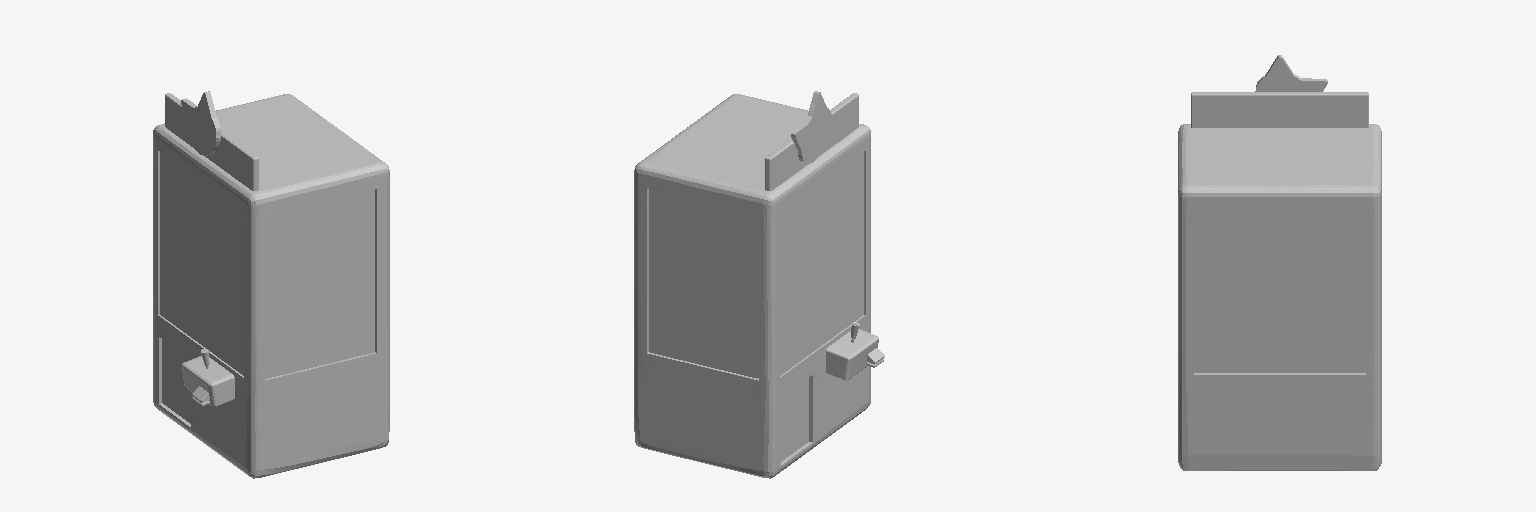
3 views of the same model, side by side, from view 1: azimuth 30°, elevation 25°; view 2: azimuth 150°, elevation 25°; view 3: azimuth 270°, elevation 25° (orthographic).
Parts seen in each view (by area): view 1: polySurface1 Claw_Machine, Claw_Machine pCube15, Claw_Machine pCube3, Claw_Machine pCube7, Claw_Machine group4 Full_Claw MyHead3, Claw_Machine pCube1, Claw_Machine pCube6; view 2: polySurface1 Claw_Machine, Claw_Machine pCube14, Claw_Machine pCube3, Claw_Machine pCube7, Claw_Machine pCube6, Claw_Machine pCube1, Claw_Machine group4 Full_Claw MyHead3; view 3: polySurface1 Claw_Machine, Claw_Machine pCube2, Claw_Machine pCube7, Claw_Machine group4 Full_Claw MyHead3.
Boxes of the visible parts, x1,y1,x2,y2 form: polySurface1 Claw_Machine: [153, 94, 389, 478]; Claw_Machine pCube15: [265, 189, 374, 378]; Claw_Machine pCube3: [160, 152, 243, 375]; Claw_Machine pCube7: [165, 93, 258, 190]; Claw_Machine group4 Full_Claw MyHead3: [181, 91, 220, 155]; Claw_Machine pCube1: [182, 356, 234, 406]; Claw_Machine pCube6: [162, 339, 190, 423]; polySurface1 Claw_Machine: [634, 94, 870, 478]; Claw_Machine pCube14: [649, 189, 758, 377]; Claw_Machine pCube3: [780, 152, 863, 375]; Claw_Machine pCube7: [765, 93, 858, 190]; Claw_Machine pCube6: [781, 378, 808, 461]; Claw_Machine pCube1: [826, 329, 878, 379]; Claw_Machine group4 Full_Claw MyHead3: [791, 91, 831, 163]; polySurface1 Claw_Machine: [1178, 124, 1381, 470]; Claw_Machine pCube2: [1194, 210, 1365, 372]; Claw_Machine pCube7: [1191, 92, 1368, 127]; Claw_Machine group4 Full_Claw MyHead3: [1255, 55, 1327, 91].
Bounding box in the file's own units: 5.01 × 9.83 × 5.16.